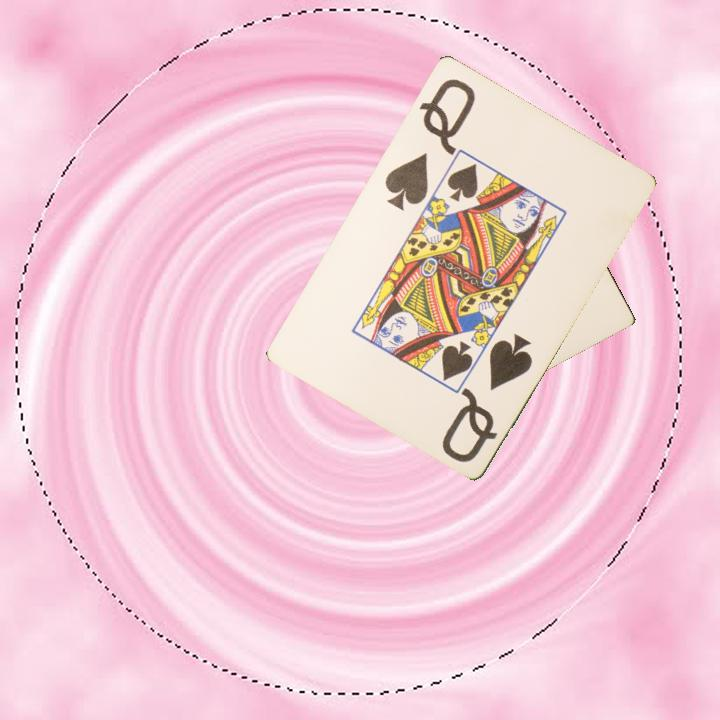Qs: (380, 74, 479, 212), (438, 329, 536, 465)
